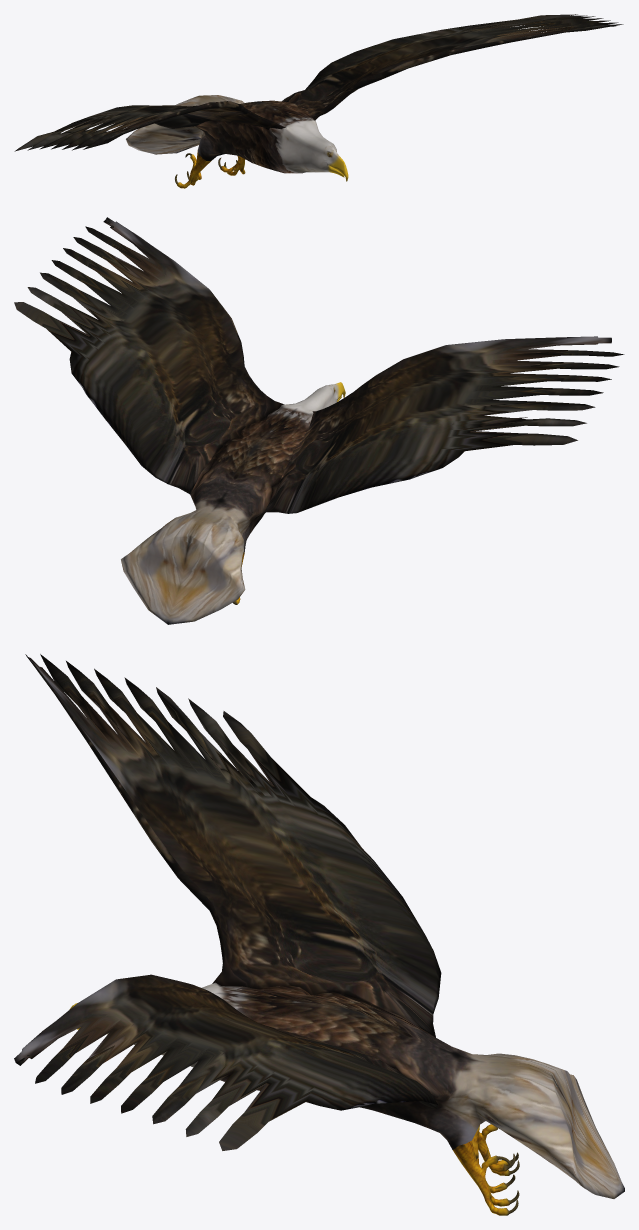
The model's file is Eagle-original_000025.obj.
The picture shows the model from 3 angles, top to bottom: view 1: azimuth 30°, elevation 25°; view 2: azimuth 150°, elevation 25°; view 3: azimuth 270°, elevation 25°; orthographic projection. The views are drawn at different scales.
Parts seen in each view (by area): view 1: Flugel_Plane.003; view 2: Flugel_Plane.003; view 3: Flugel_Plane.003.
Boxes of the visible parts, x1=… form: Flugel_Plane.003: x1=14, y1=14, x2=623, y2=188; Flugel_Plane.003: x1=14, y1=217, x2=624, y2=624; Flugel_Plane.003: x1=14, y1=654, x2=624, y2=1215.
Bounding box in the file's own units: 10.68 × 3.84 × 6.26.
Materials: 1 (1 with a texture image).
